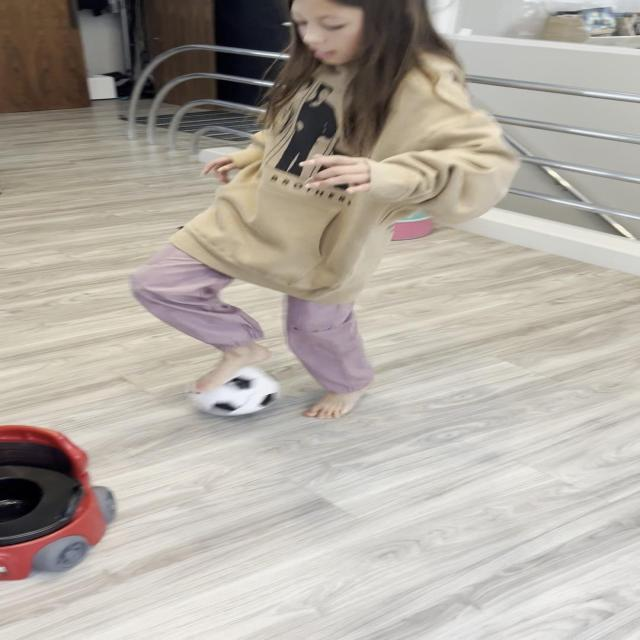Soccer Ball: (188, 366, 282, 417)
